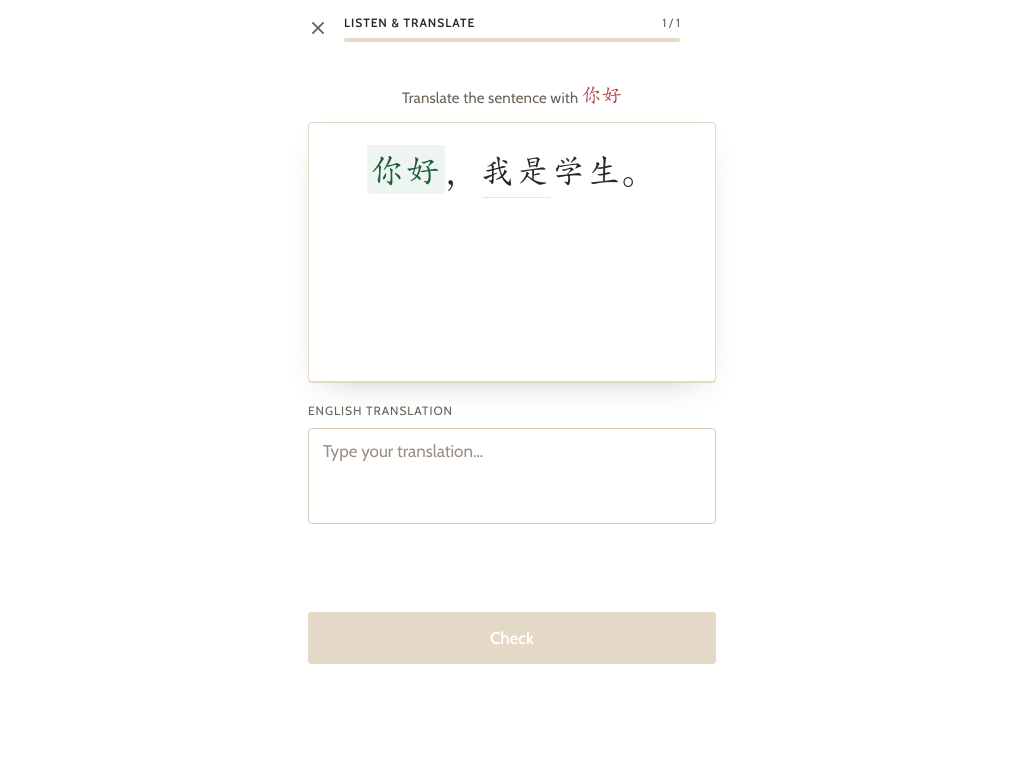
SentenceRead — word popup rendering › shows "Added" after opening popup when the word is already in addedWords
// Wait for popup span and click to open it
Click the button labelled "我是": (516, 171) [481, 143, 551, 198]
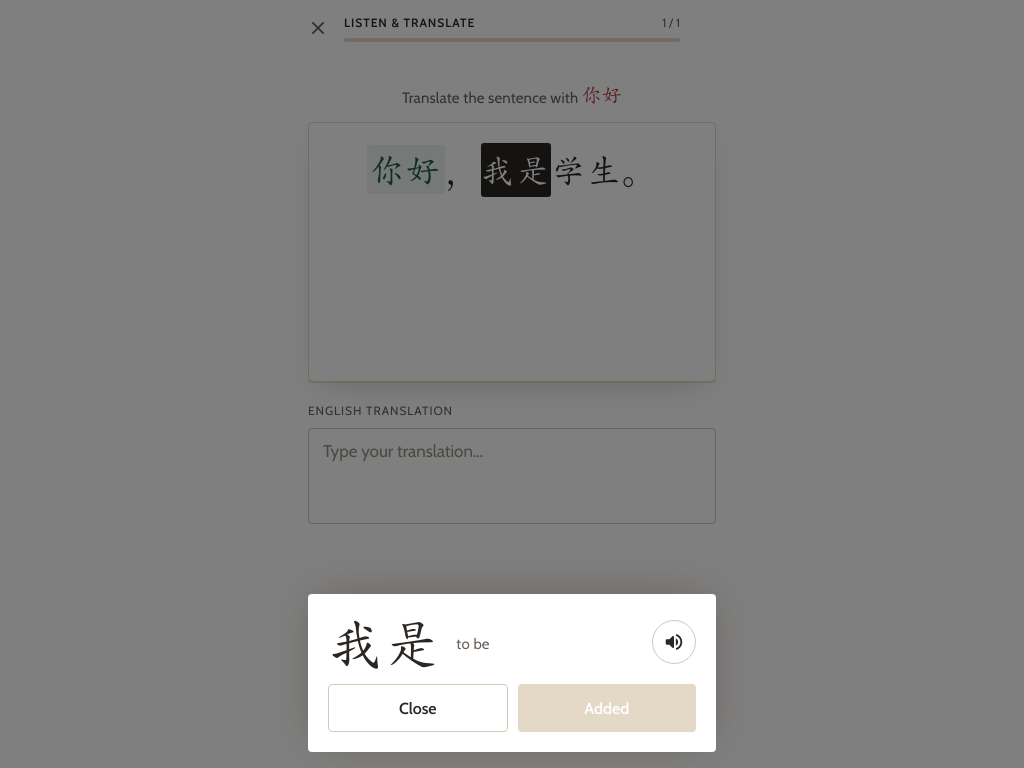
expect the button "Added" is disabled: met, box [518, 684, 696, 732]
